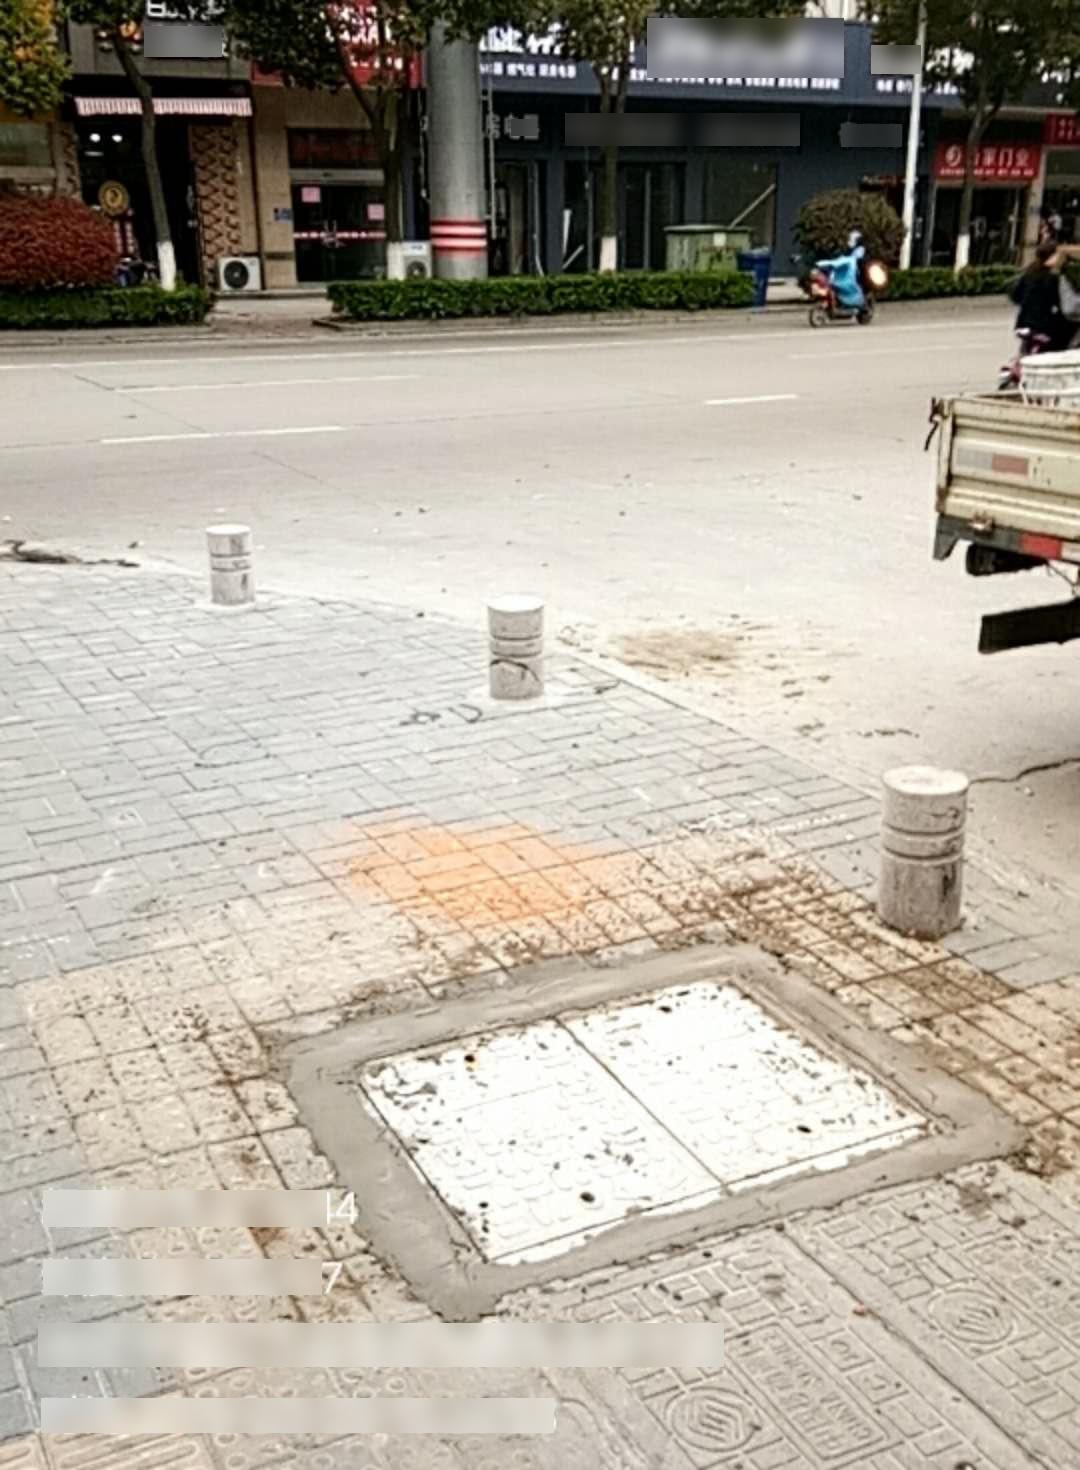wellcover: (273, 955, 991, 1295)
